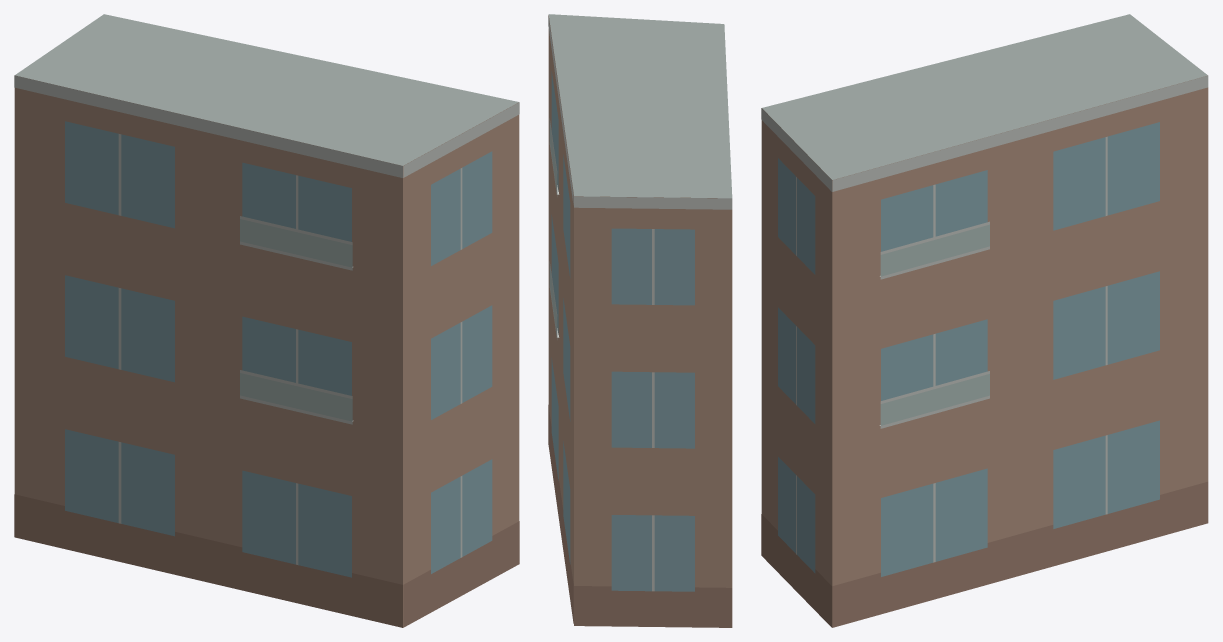
File: survey-upis-32731798.glb
3 views of the same model, side by side, from view 1: azimuth 30°, elevation 25°; view 2: azimuth 150°, elevation 25°; view 3: azimuth 270°, elevation 25° (orthographic). The views are drawn at different scales.
Parts seen in each view (by area): view 1: survey-upis-32731798.tmp; view 2: survey-upis-32731798.tmp; view 3: survey-upis-32731798.tmp.
Boxes of the visible parts, x1,y1,x2,y2 form: survey-upis-32731798.tmp: (14,14,519,627); survey-upis-32731798.tmp: (548,14,732,627); survey-upis-32731798.tmp: (761,14,1208,627).
Size of the model in its own units: 7.29 by 9.15 by 8.28.
